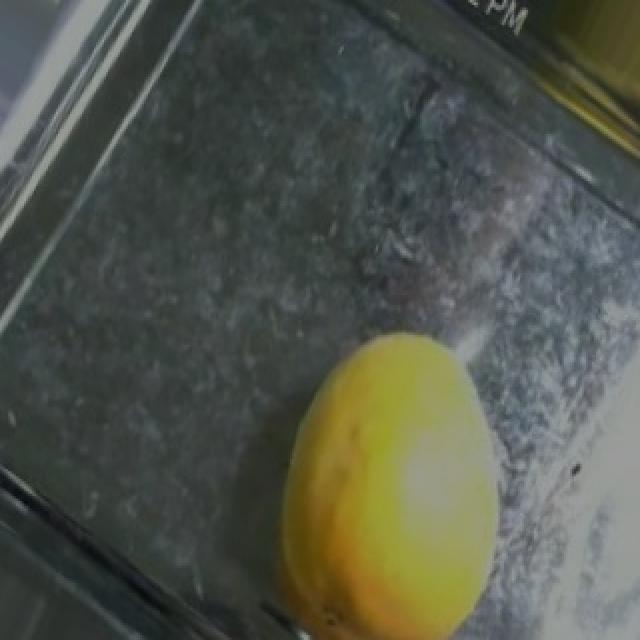fruit: (228, 285, 570, 640), (458, 0, 640, 154)
